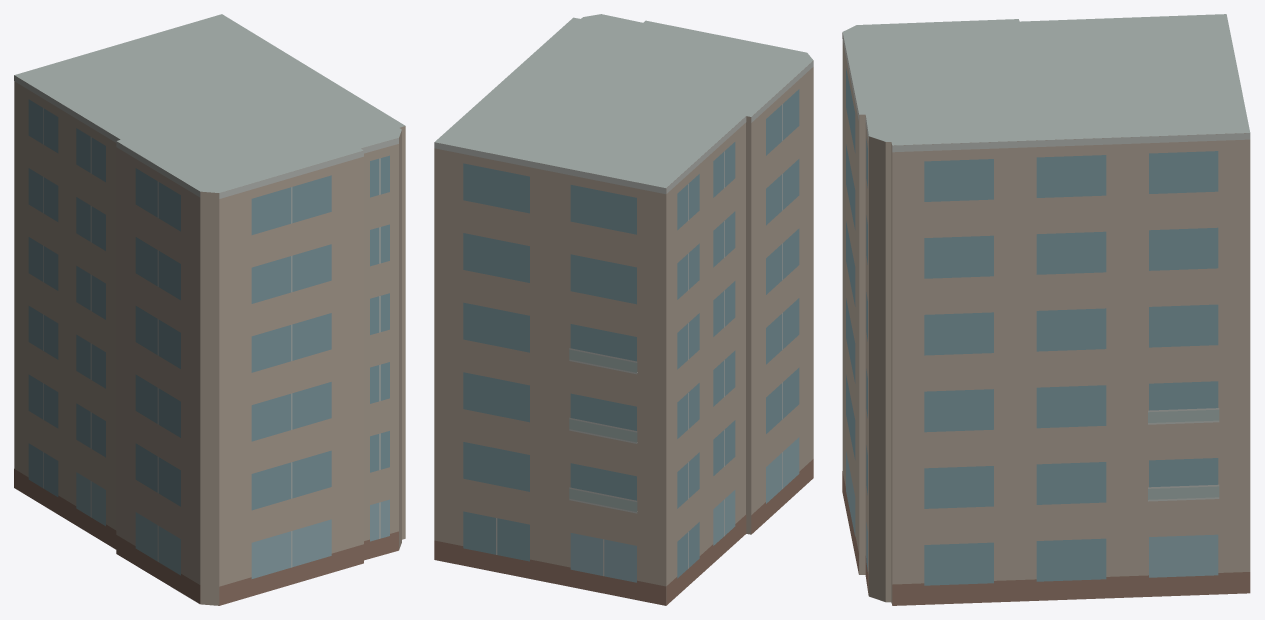
The model's file is survey-upis-32665357.glb.
3 renders of one model, left to right at view 1: azimuth 30°, elevation 25°; view 2: azimuth 150°, elevation 25°; view 3: azimuth 270°, elevation 25°, orthographic. The views are drawn at different scales.
Parts seen in each view (by area): view 1: survey-upis-32665357.tmp; view 2: survey-upis-32665357.tmp; view 3: survey-upis-32665357.tmp.
Part boxes in pixels (left/top/right/bottom): survey-upis-32665357.tmp: left=14, top=14, right=405, bottom=605; survey-upis-32665357.tmp: left=434, top=14, right=813, bottom=605; survey-upis-32665357.tmp: left=842, top=14, right=1250, bottom=605.
Size of the model in its own units: 10.24 by 16.7 by 13.42.
